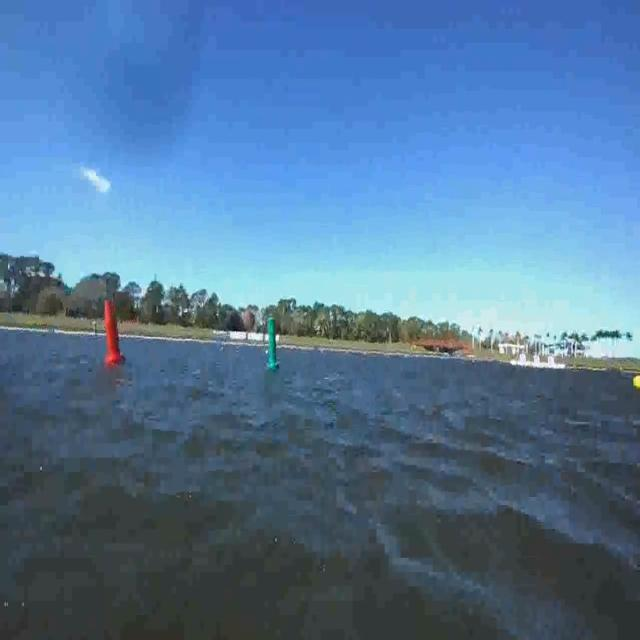green-column-buoy: (267, 318, 281, 369)
red-column-buoy: (104, 301, 125, 366)
yellow-buoy: (632, 374, 640, 392)
